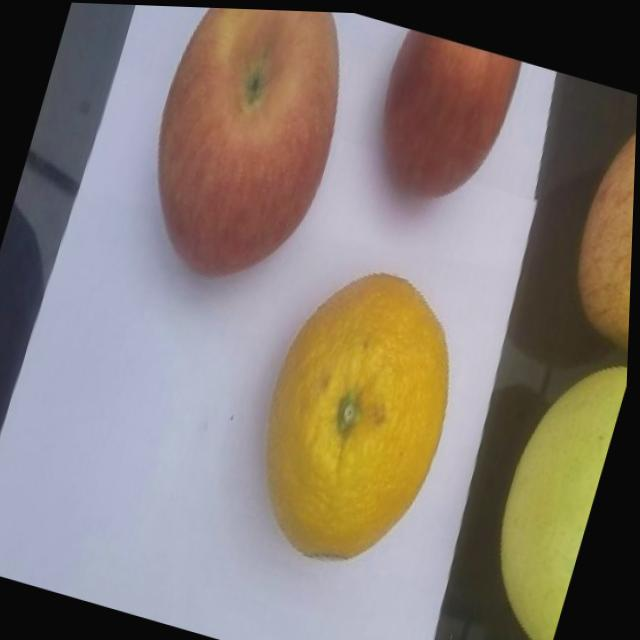Apple: (126, 4, 372, 299), (362, 23, 526, 217), (556, 82, 638, 351)
Orange: (230, 246, 487, 588)
